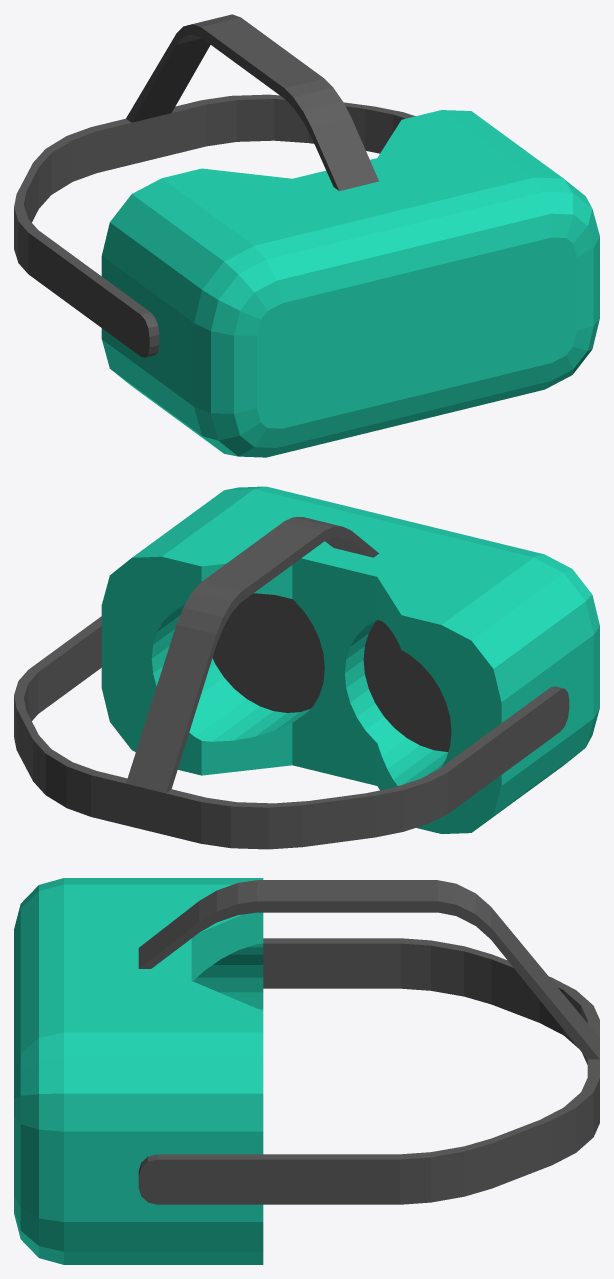
The model's file is sotsuken.glb.
The picture shows the model from 3 angles, top to bottom: view 1: azimuth 30°, elevation 25°; view 2: azimuth 150°, elevation 25°; view 3: azimuth 270°, elevation 25°; orthographic projection. The views are drawn at different scales.
Parts seen in each view (by area): view 1: sotsuken; view 2: sotsuken; view 3: sotsuken.
Part boxes in pixels (left/top/right/bottom): sotsuken: left=14, top=14, right=599, bottom=457; sotsuken: left=14, top=486, right=599, bottom=849; sotsuken: left=14, top=878, right=599, bottom=1264.
Bounding box in the file's own units: 2.1 × 1.3 × 2.35.
